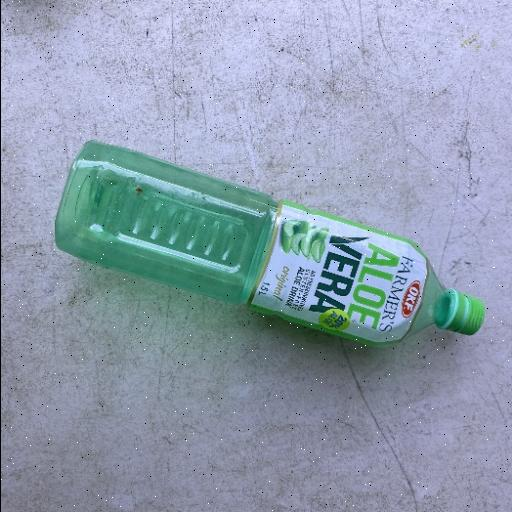Plastic: (52, 138, 486, 349)
